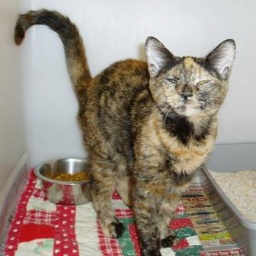cat: (10, 3, 233, 256)
